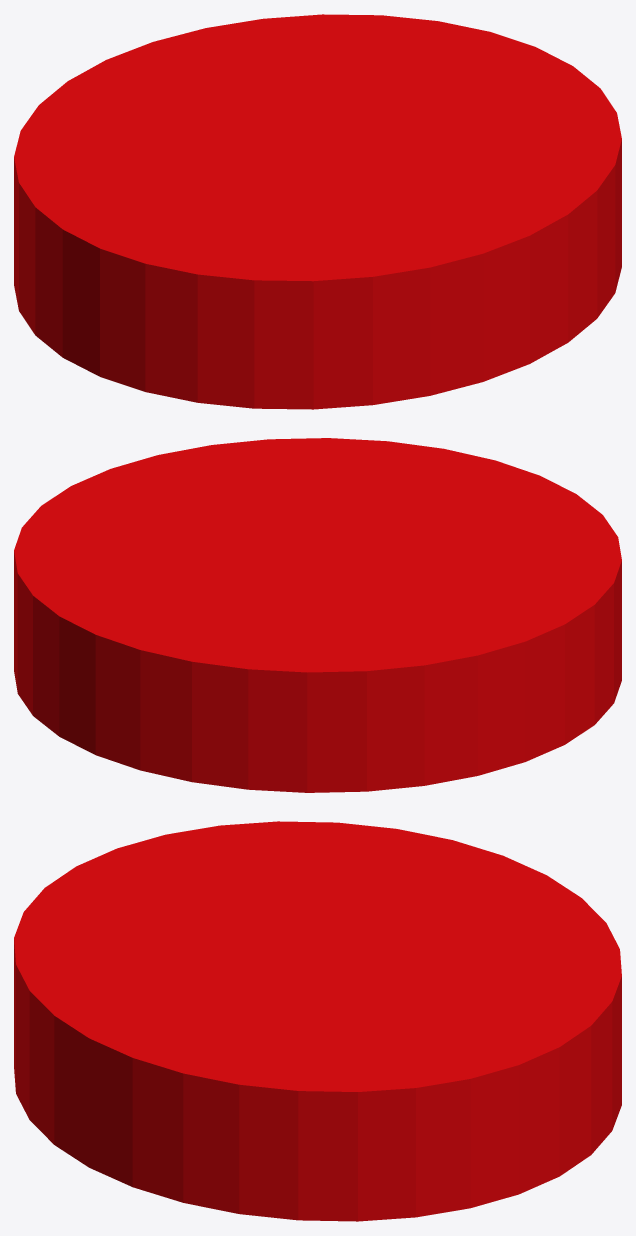
Rendered from Lamp3.fbx.
The picture shows the model from 3 angles, top to bottom: view 1: azimuth 30°, elevation 25°; view 2: azimuth 150°, elevation 25°; view 3: azimuth 270°, elevation 25°; orthographic projection. The views are drawn at different scales.
Visible parts, largest first — view 1: Lamp3; view 2: Lamp3; view 3: Lamp3.
Boxes of the visible parts, x1,y1,x2,y2 form: Lamp3: [14, 14, 621, 409]; Lamp3: [14, 438, 621, 792]; Lamp3: [14, 821, 621, 1221].
Bounding box in the file's own units: 357 × 79.64 × 339.
